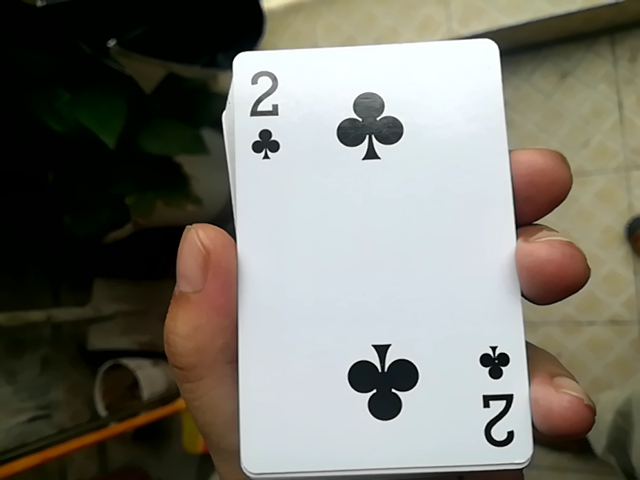mh 2: (214, 34, 530, 472)
